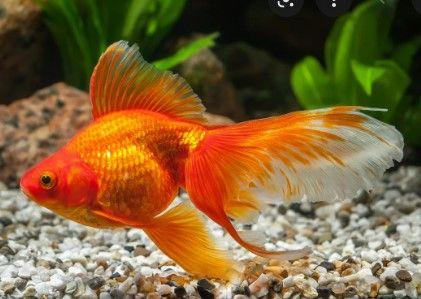Gold Fish: (20, 42, 403, 288)
